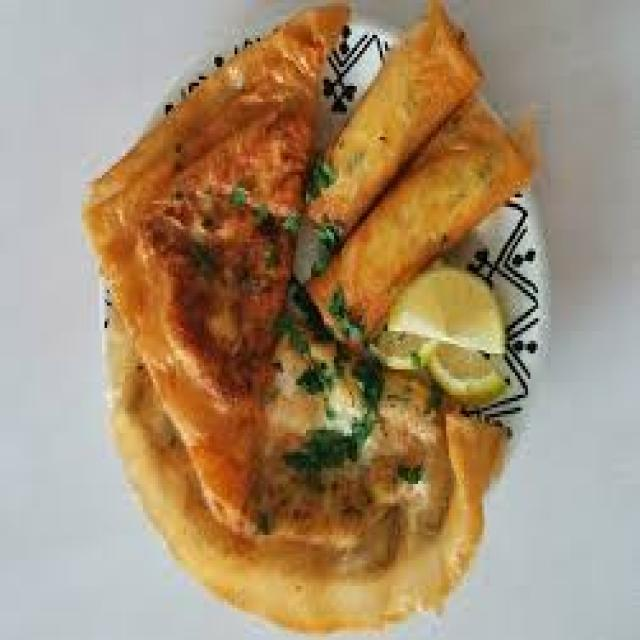brik: (112, 21, 353, 514), (94, 381, 532, 625), (317, 83, 523, 252)
